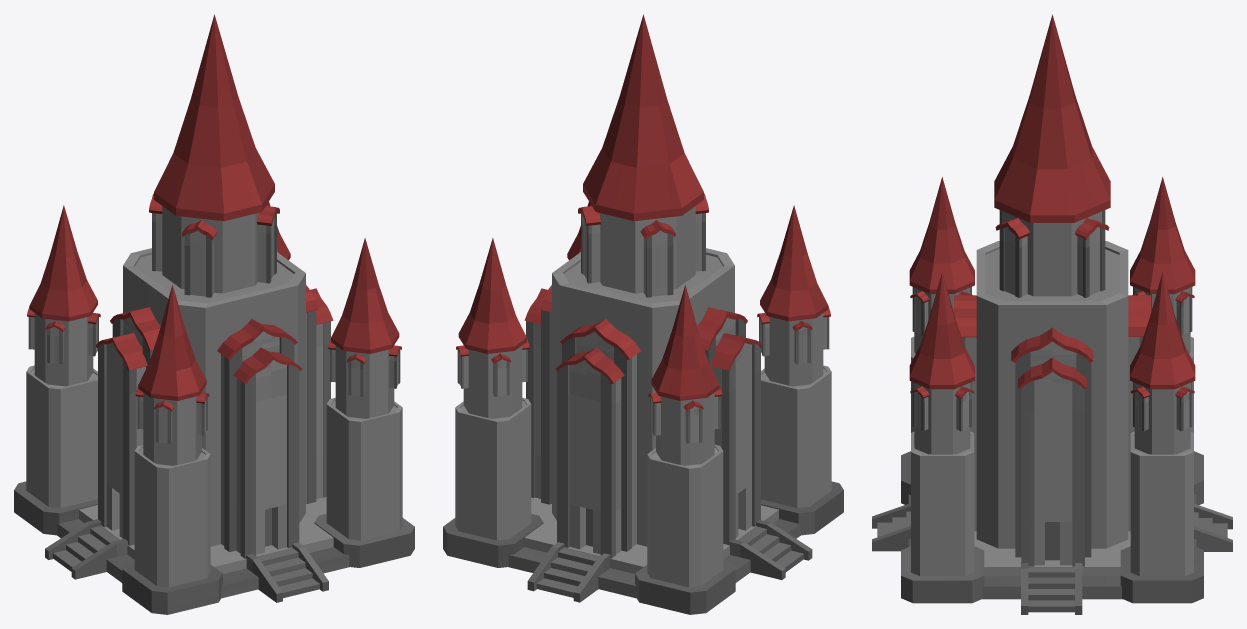
The model's file is TempleSecondAge3.glb.
3 renders of one model, left to right at view 1: azimuth 30°, elevation 25°; view 2: azimuth 150°, elevation 25°; view 3: azimuth 270°, elevation 25°, orthographic.
Visible parts, largest first — view 1: Temple_SecondAge_Level3; view 2: Temple_SecondAge_Level3; view 3: Temple_SecondAge_Level3.
Part boxes in pixels (<box>): Temple_SecondAge_Level3: <box>14,14,414,614</box>; Temple_SecondAge_Level3: <box>443,14,843,614</box>; Temple_SecondAge_Level3: <box>872,14,1232,614</box>.
Bounding box in the file's own units: 7.9 × 12.68 × 7.9.
1 material, 1 textured.
